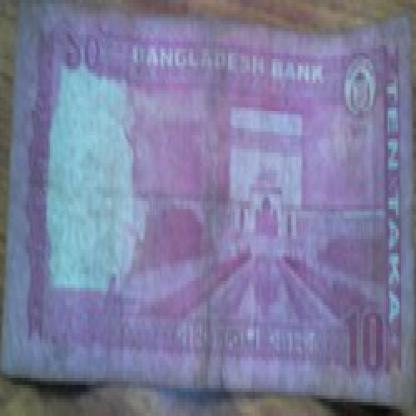Ten Taka: (338, 295, 384, 381), (55, 24, 115, 83)
